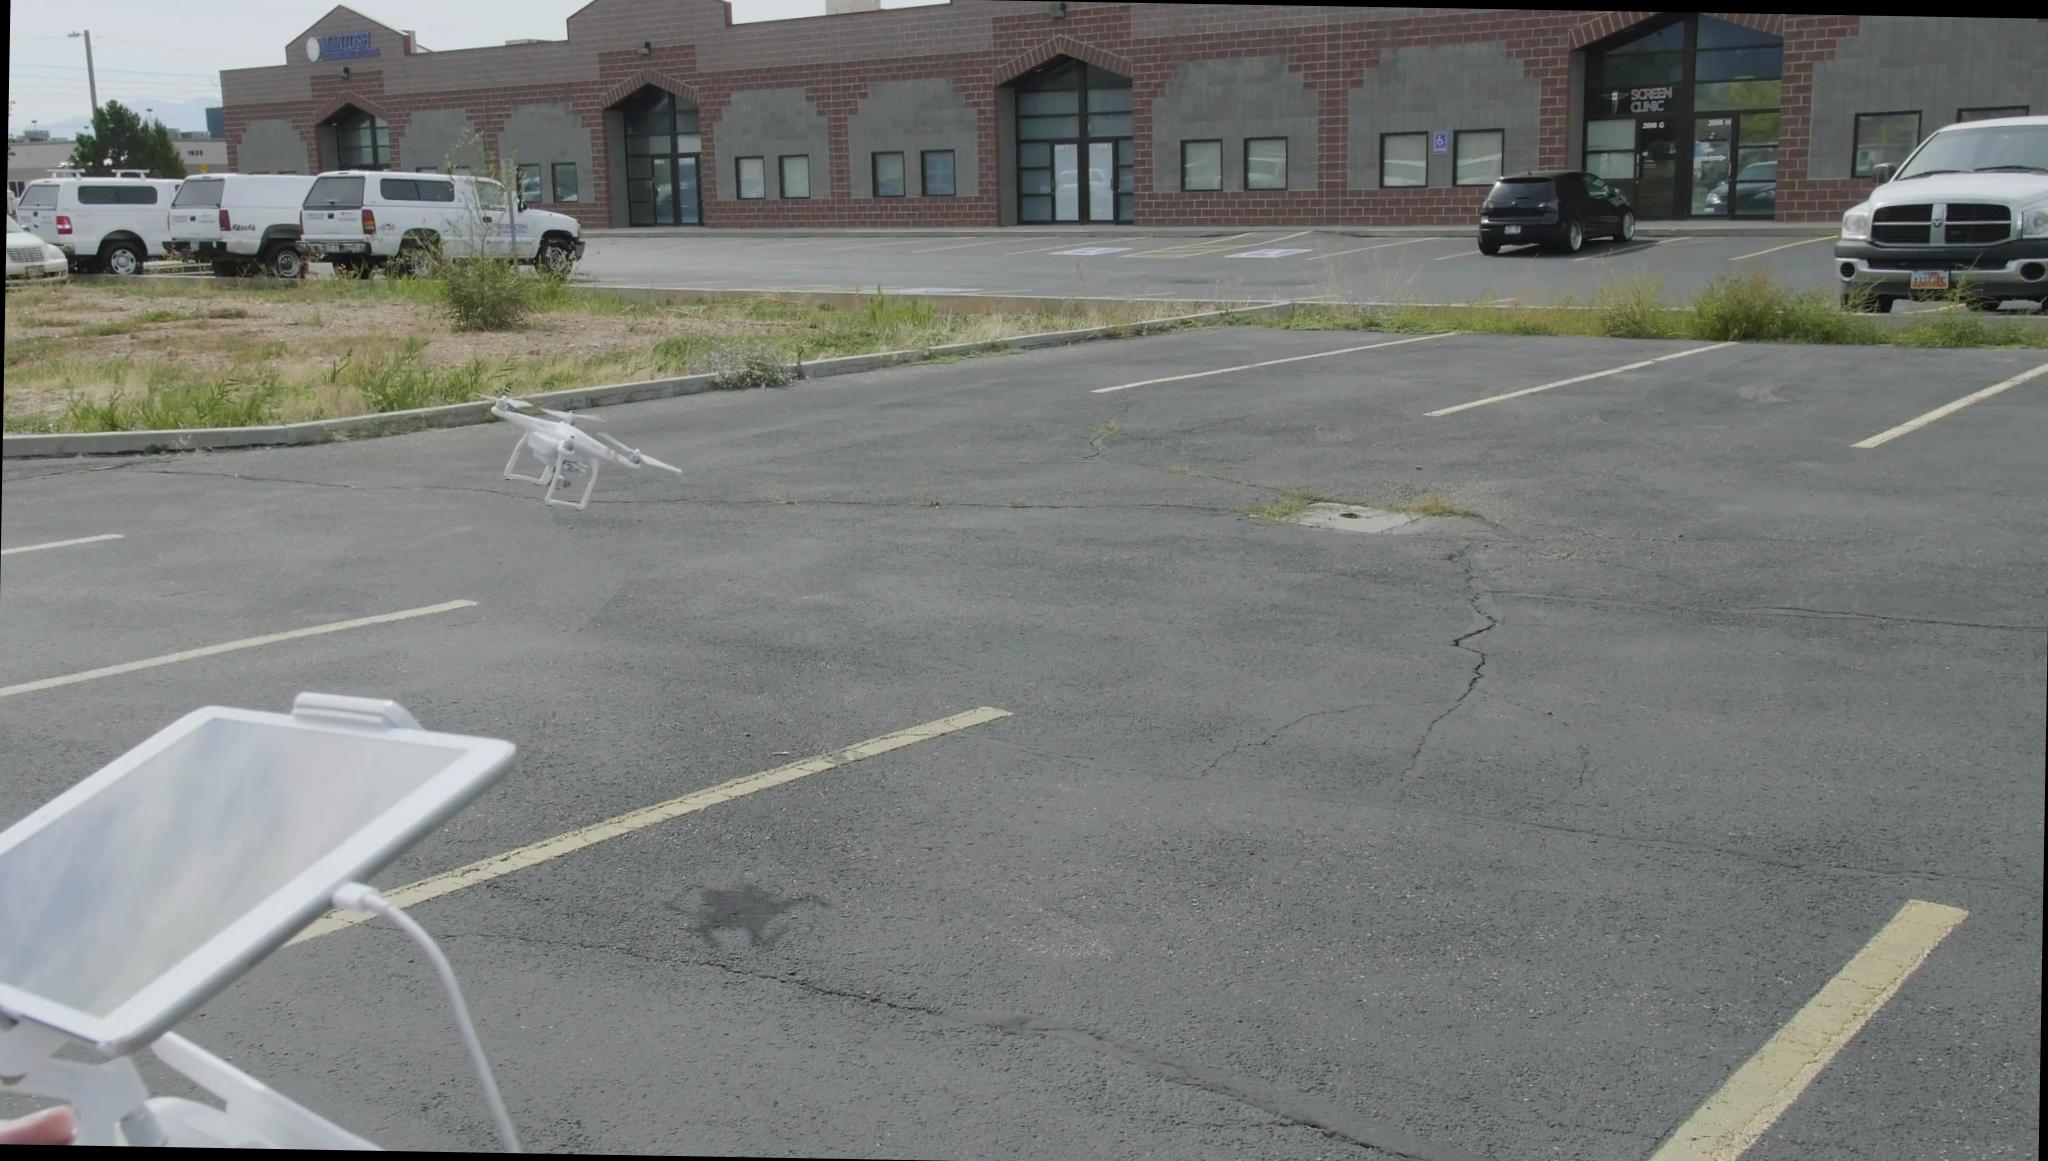drone: (468, 384, 678, 514)
